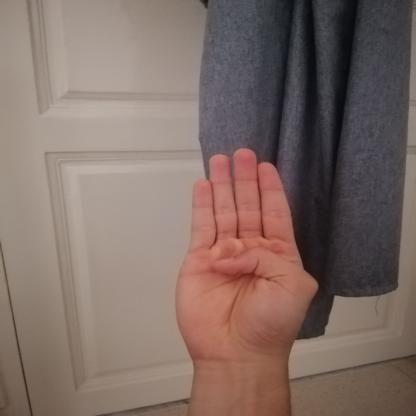KAAF: (160, 139, 331, 378)
